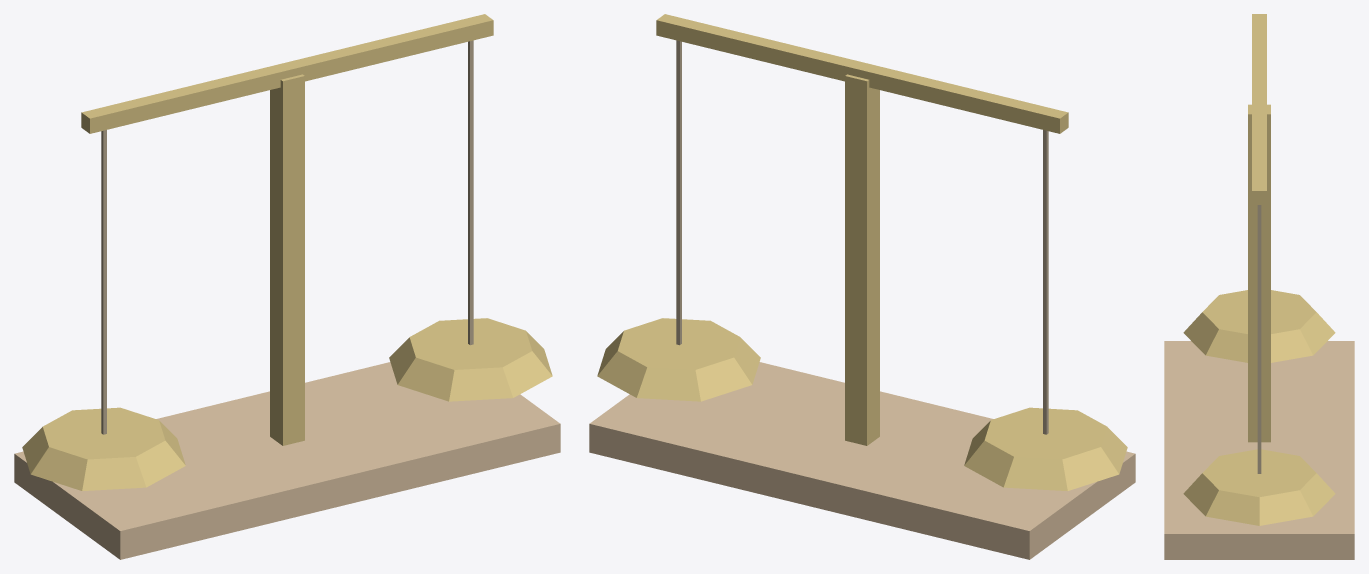
The model's file is prop-balance-scale-blank-ap1.fbx.
3 views of the same model, side by side, from view 1: azimuth 30°, elevation 25°; view 2: azimuth 150°, elevation 25°; view 3: azimuth 270°, elevation 25° (orthographic). The views are drawn at different scales.
Parts seen in each view (by area): view 1: prop-balance-scale-blank-ap1; view 2: prop-balance-scale-blank-ap1; view 3: prop-balance-scale-blank-ap1.
Part boxes in pixels (<box>): prop-balance-scale-blank-ap1: <box>14,14,560,559</box>; prop-balance-scale-blank-ap1: <box>589,14,1135,559</box>; prop-balance-scale-blank-ap1: <box>1164,14,1354,559</box>.
Size of the model in its own units: 28 by 20.9 by 10.
